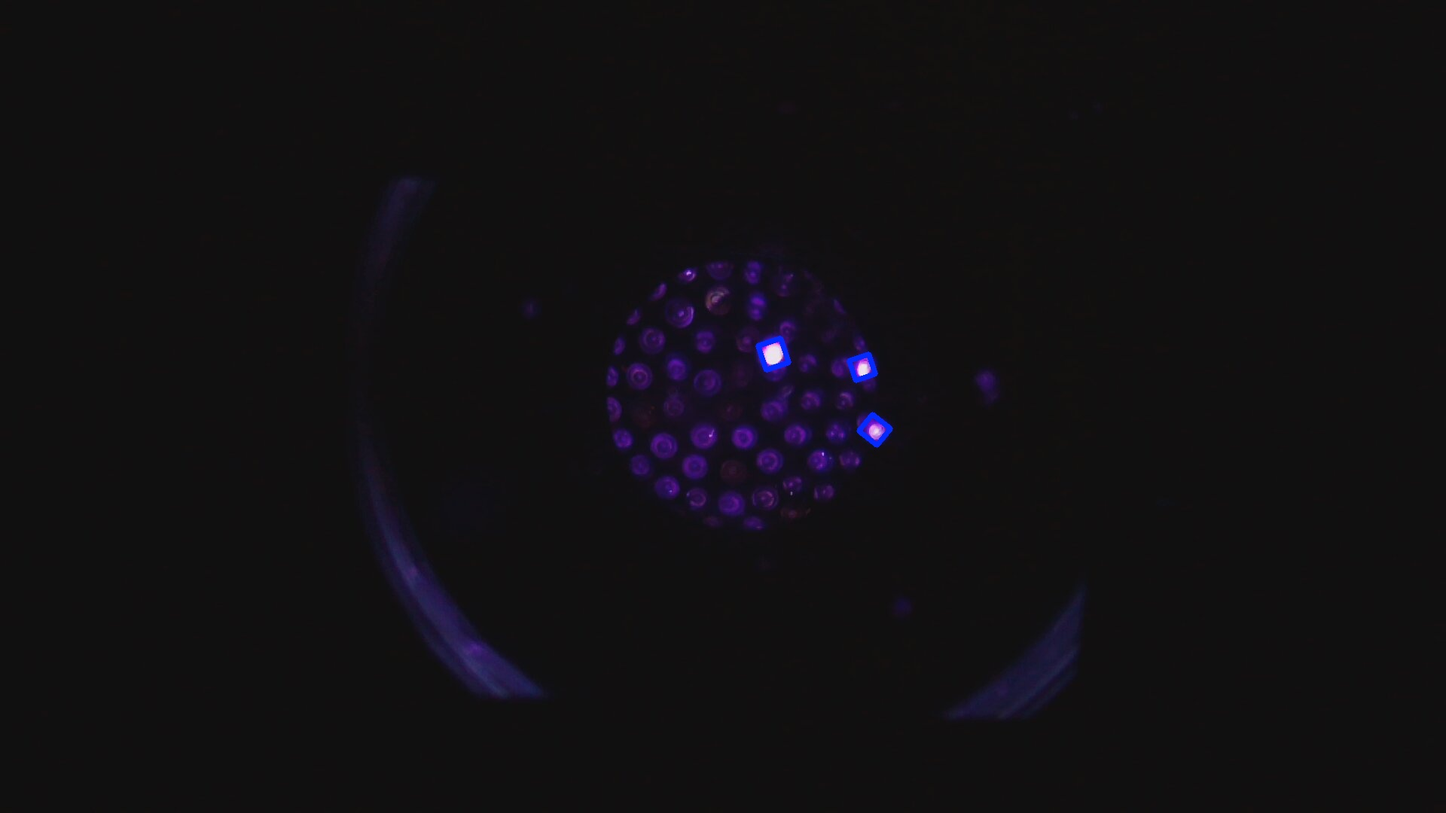plastic: (854, 408, 896, 451), (753, 334, 794, 375), (845, 350, 880, 385)
